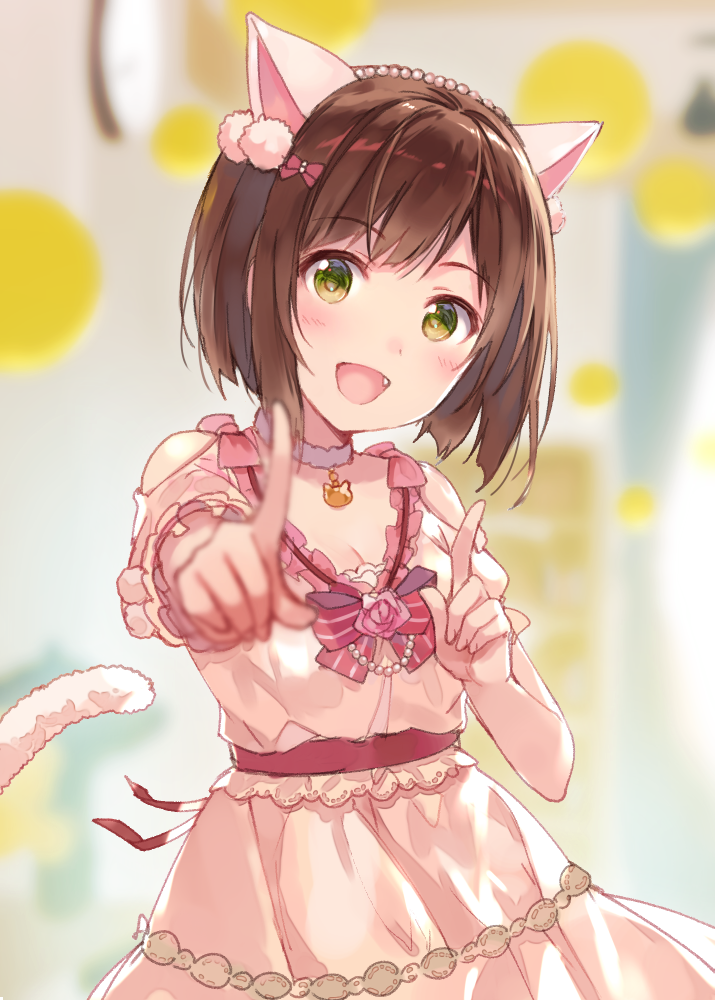纸片人正脸: (211, 64, 564, 454)
